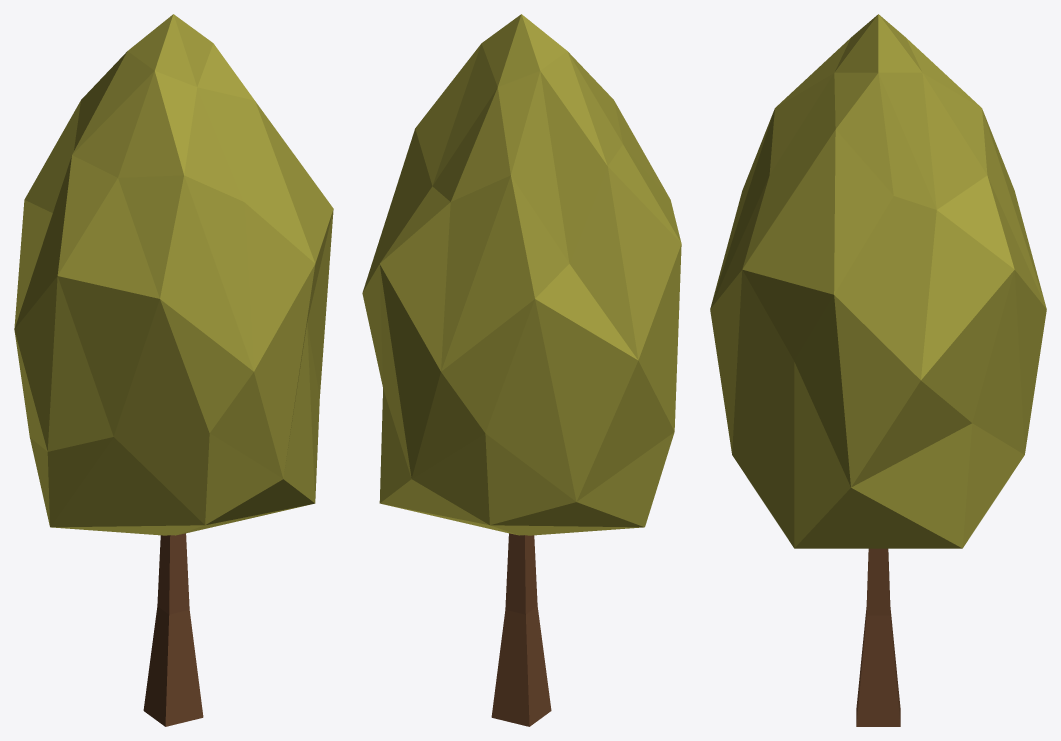
The model's file is Tree_40_Yellow.fbx.
The picture shows the model from 3 angles, left to right: view 1: azimuth 30°, elevation 25°; view 2: azimuth 150°, elevation 25°; view 3: azimuth 270°, elevation 25°; orthographic projection.
Visible parts, largest first — view 1: Tree_40_Yellow_Part_1, Tree_40_Yellow_Part_2; view 2: Tree_40_Yellow_Part_1, Tree_40_Yellow_Part_2; view 3: Tree_40_Yellow_Part_1, Tree_40_Yellow_Part_2.
Part boxes in pixels (left/top/right/bottom): Tree_40_Yellow_Part_1: left=14, top=14, right=333, bottom=535; Tree_40_Yellow_Part_2: left=143, top=533, right=203, bottom=726; Tree_40_Yellow_Part_1: left=362, top=14, right=681, bottom=535; Tree_40_Yellow_Part_2: left=491, top=533, right=551, bottom=726; Tree_40_Yellow_Part_1: left=710, top=14, right=1046, bottom=548; Tree_40_Yellow_Part_2: left=856, top=548, right=900, bottom=726.
Bounding box in the file's own units: 331 × 798 × 346.
